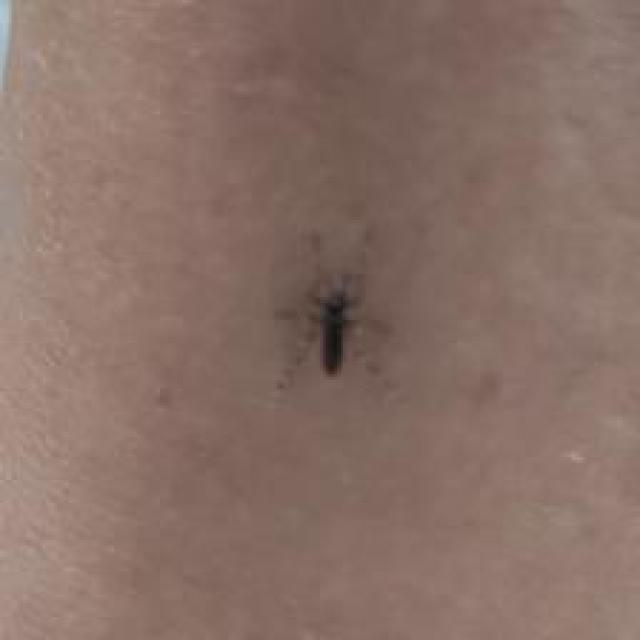Aedes albopictus: (274, 270, 392, 393)
